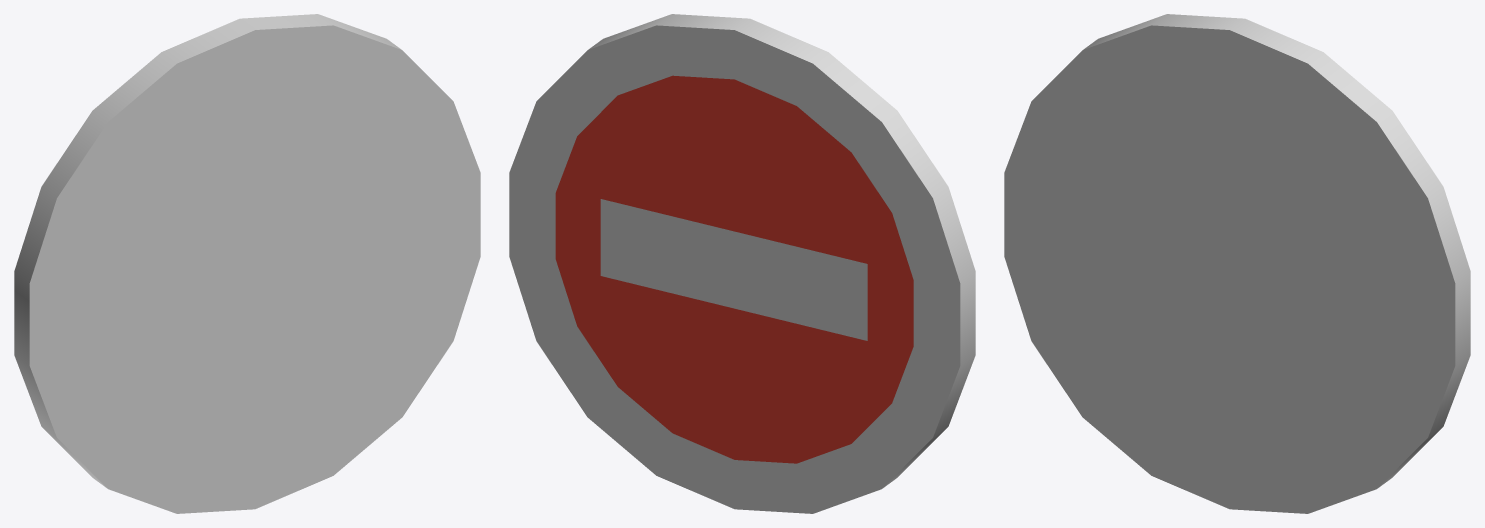
Rendered from sign.fbx.
3 views of the same model, side by side, from view 1: azimuth 30°, elevation 25°; view 2: azimuth 150°, elevation 25°; view 3: azimuth 330°, elevation 25° (orthographic).
Visible parts, largest first — view 1: sign; view 2: sign; view 3: sign.
Part boxes in pixels (box(x1,y1,x2,y2)): sign: box(14, 14, 480, 513); sign: box(509, 14, 975, 513); sign: box(1004, 14, 1470, 513).
Bounding box in the file's own units: 289 × 293 × 17.77.
